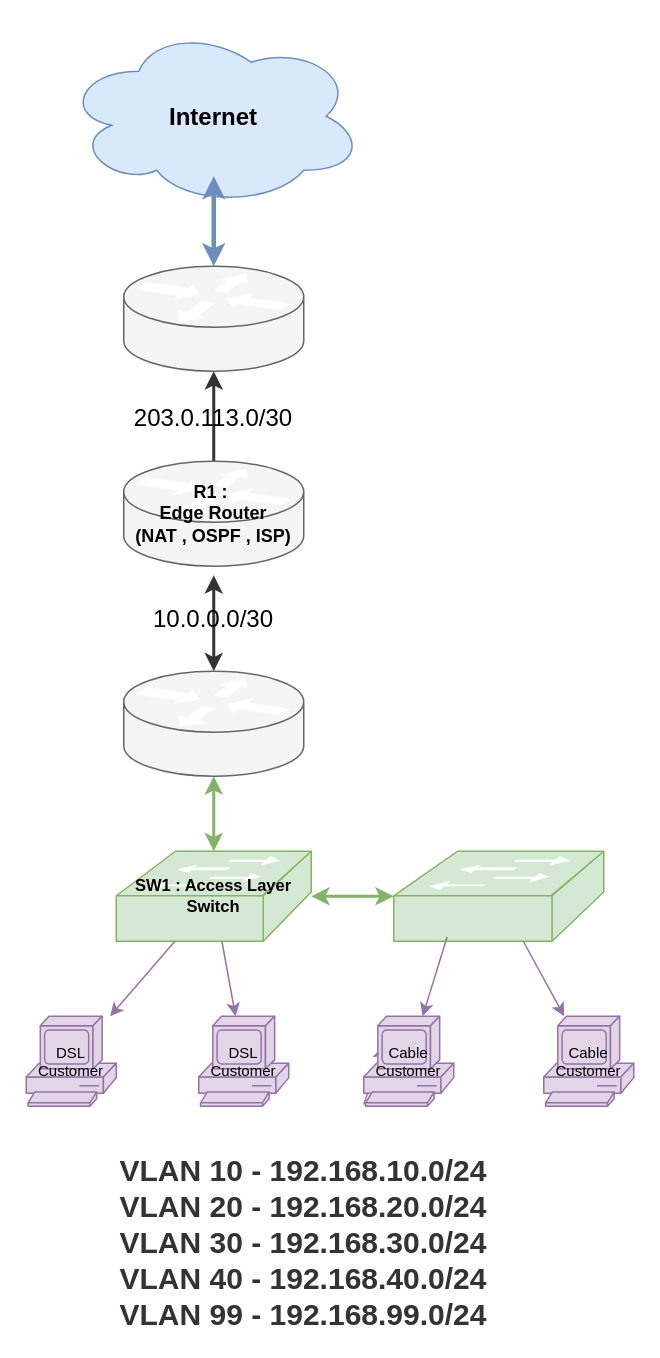
Image size: 660x1358. Some labels were removed from this diagram. Here are the shapes that lost their labels. From the top down, the centre of each, then its label:
the point at 213,318: ISP
the point at 213,723: R2 : Core Router (VLAN Routing)
the point at 498,895: SW2 : Access Layer Switch
